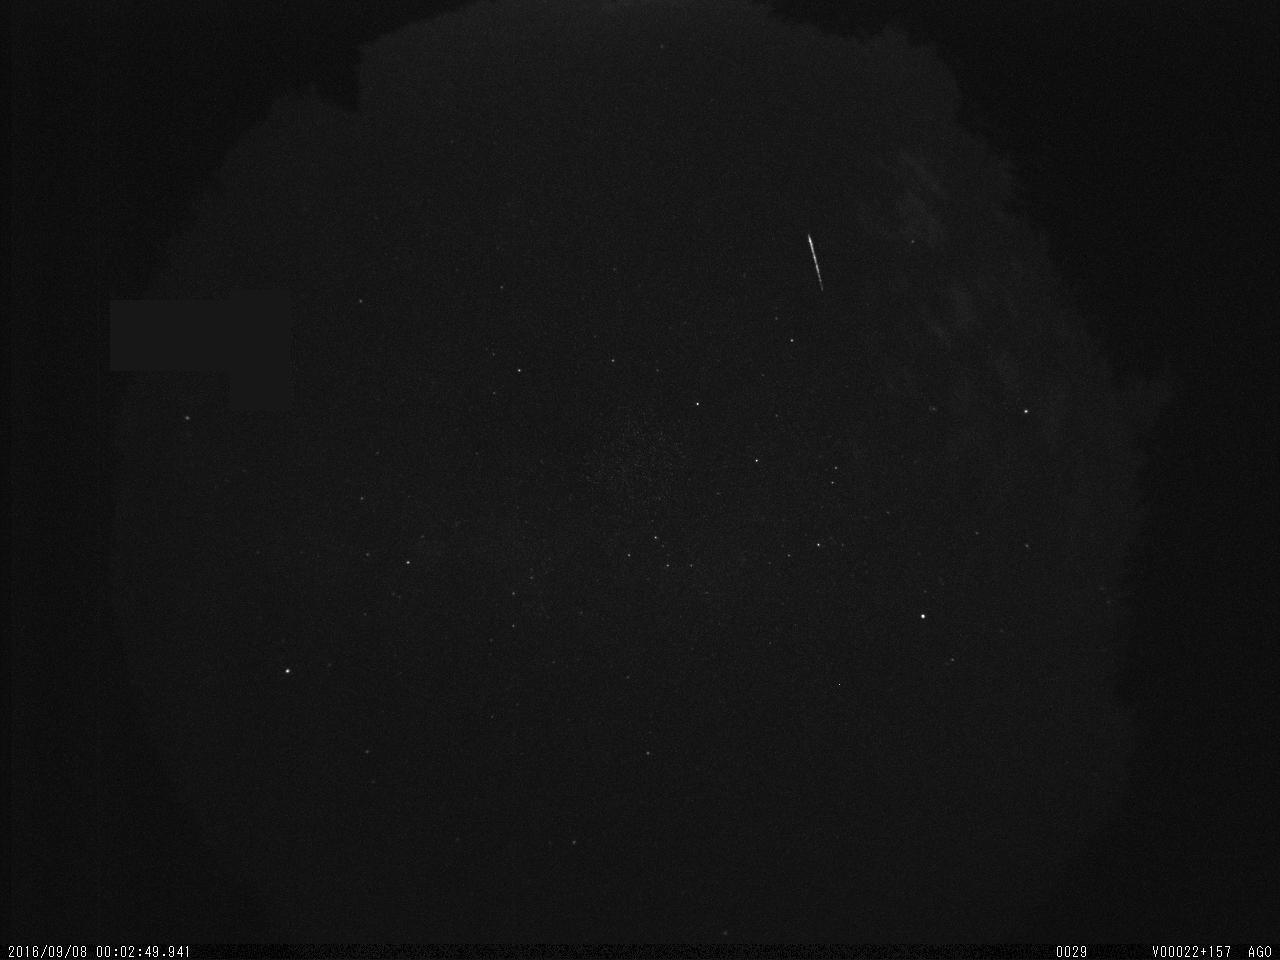meteor: (799, 222, 835, 291)
